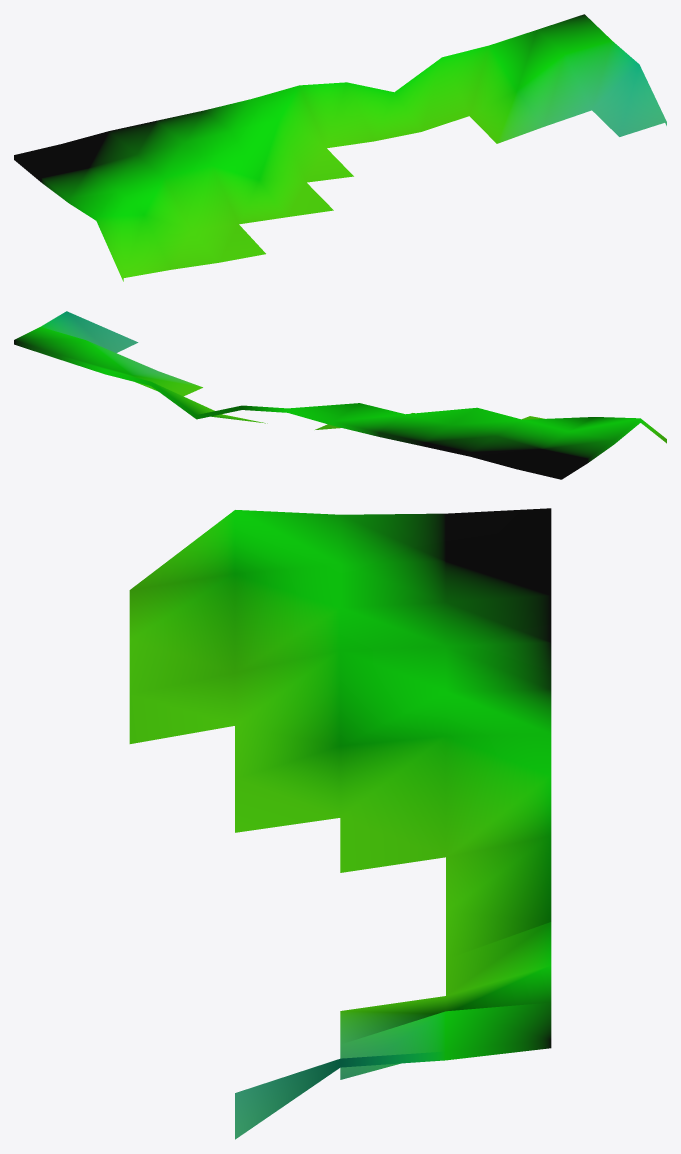
Rendered from coast_4_8.glb.
3 views of the same model, one above another, from view 1: azimuth 30°, elevation 25°; view 2: azimuth 150°, elevation 25°; view 3: azimuth 270°, elevation 25° (orthographic). The views are drawn at different scales.
Visible parts, largest first — view 1: terrain; view 2: terrain; view 3: terrain.
Part boxes in pixels (left/top/right/bottom): terrain: left=14, top=14, right=666, bottom=281; terrain: left=14, top=311, right=666, bottom=479; terrain: left=129, top=508, right=551, bottom=1139.
Bounding box in the file's own units: 192 × 17.73 × 64.
